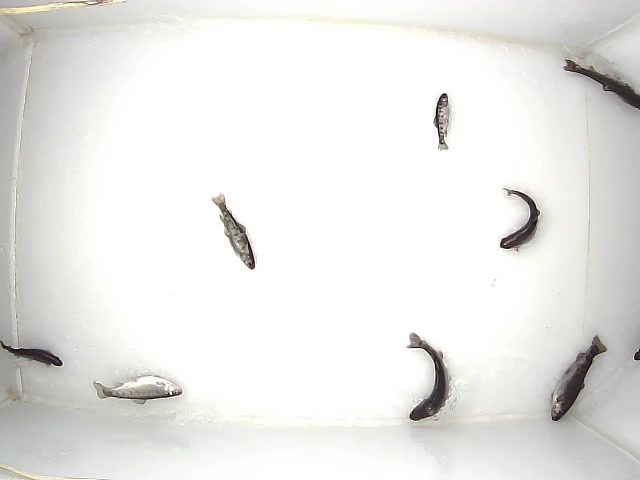fish: (551, 335, 608, 421), (406, 332, 453, 421), (563, 58, 640, 110), (211, 193, 255, 270), (93, 375, 182, 404), (500, 188, 540, 249), (1, 339, 63, 368), (433, 93, 450, 151)
